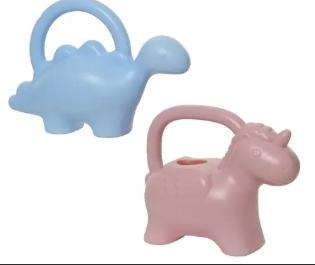ARROSOIR: (0, 0, 310, 265)
